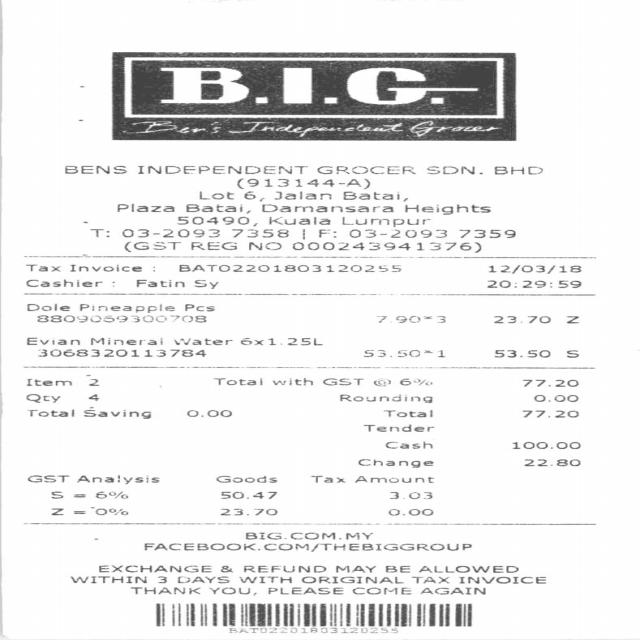text: (156, 67, 477, 105), (143, 543, 470, 552), (177, 263, 400, 272), (290, 242, 480, 252), (137, 164, 307, 173), (237, 178, 368, 189), (38, 349, 206, 357), (35, 315, 205, 322), (261, 204, 393, 212), (245, 532, 371, 540), (404, 203, 490, 214), (340, 216, 429, 226), (316, 164, 414, 173), (78, 303, 172, 312), (338, 394, 432, 403), (228, 627, 397, 632), (487, 264, 580, 273), (76, 474, 158, 484), (301, 576, 403, 584), (418, 565, 518, 573), (97, 565, 211, 572), (349, 229, 446, 237), (122, 229, 218, 237), (357, 458, 432, 468), (459, 576, 545, 584), (83, 408, 151, 418), (486, 280, 581, 287), (342, 192, 408, 202), (240, 337, 322, 345), (362, 349, 444, 357), (24, 279, 102, 287), (69, 575, 146, 583), (175, 216, 248, 224), (244, 565, 326, 572), (90, 337, 161, 345), (362, 424, 433, 432), (128, 586, 199, 594), (354, 475, 433, 482), (124, 242, 179, 252), (184, 203, 244, 212), (116, 203, 174, 212), (268, 587, 342, 594), (63, 165, 126, 173), (68, 264, 140, 271), (268, 216, 329, 224), (172, 337, 231, 345), (378, 315, 445, 322), (274, 191, 331, 199), (230, 229, 287, 237), (458, 229, 515, 237), (420, 587, 485, 594), (426, 166, 482, 174), (494, 349, 549, 357), (25, 337, 79, 345), (522, 378, 576, 386), (384, 409, 432, 418), (175, 575, 228, 583), (216, 475, 276, 482), (350, 587, 410, 594), (512, 442, 580, 448), (520, 410, 578, 417), (492, 316, 549, 323), (219, 491, 276, 498), (24, 302, 68, 311), (524, 459, 580, 466), (492, 166, 540, 174), (136, 279, 184, 287), (214, 377, 262, 385), (385, 441, 431, 449), (209, 587, 255, 595), (190, 242, 235, 250), (28, 408, 72, 416), (388, 508, 432, 516), (218, 509, 276, 515), (389, 491, 432, 499), (270, 377, 312, 385), (322, 377, 363, 385), (90, 506, 126, 515), (25, 379, 71, 386), (238, 576, 290, 582), (533, 395, 577, 402), (25, 393, 59, 402), (187, 410, 230, 417), (25, 475, 67, 482), (197, 191, 232, 199), (24, 264, 59, 272), (397, 377, 431, 385), (248, 242, 281, 250), (192, 279, 217, 289), (310, 475, 344, 482), (94, 491, 128, 498), (336, 566, 375, 572), (411, 576, 449, 582), (184, 304, 213, 311), (372, 377, 390, 386), (89, 229, 109, 237), (318, 229, 336, 237), (385, 566, 408, 572), (242, 191, 254, 199), (566, 349, 578, 357), (86, 378, 97, 386), (51, 508, 62, 516), (566, 316, 578, 323), (86, 394, 97, 401), (51, 491, 62, 498), (220, 565, 231, 572), (157, 575, 166, 583)
